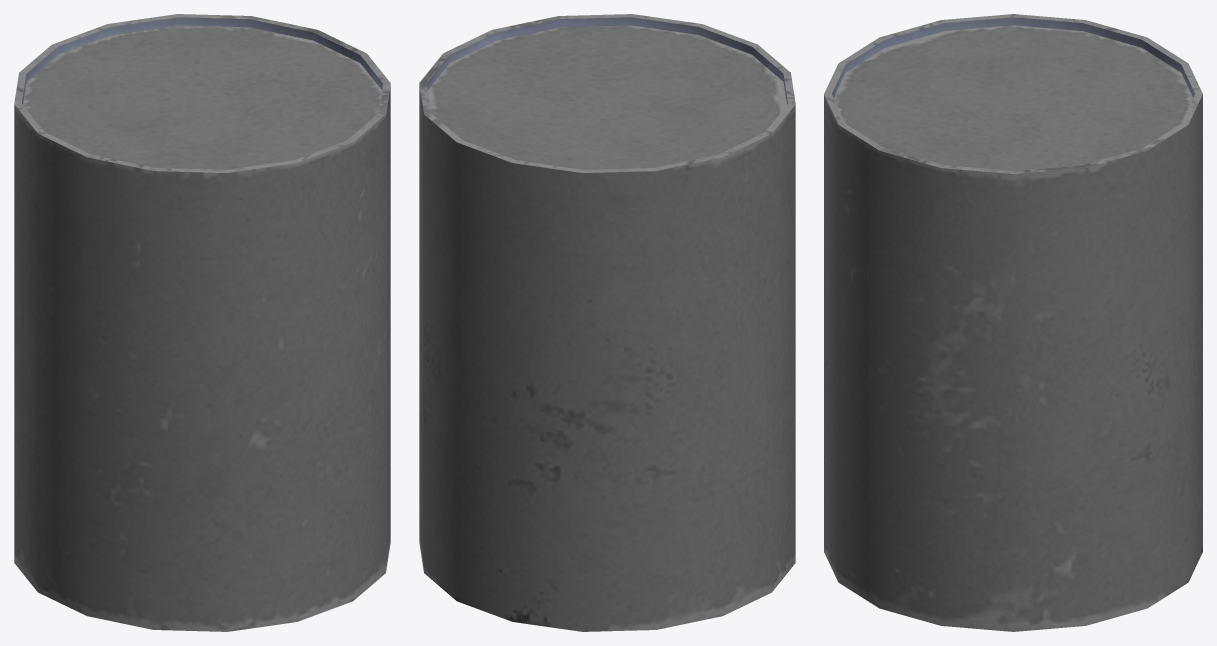
The model's file is Can_1_Closed.001.fbx.
3 views of the same model, side by side, from view 1: azimuth 30°, elevation 25°; view 2: azimuth 150°, elevation 25°; view 3: azimuth 270°, elevation 25° (orthographic).
Visible parts, largest first — view 1: Can_1_Closed.001; view 2: Can_1_Closed.001; view 3: Can_1_Closed.001.
Boxes of the visible parts, <box> form: Can_1_Closed.001: <box>14,14,390,631</box>; Can_1_Closed.001: <box>419,14,795,631</box>; Can_1_Closed.001: <box>824,14,1202,631</box>.
Bounding box in the file's own units: 0.1129 × 0.1505 × 0.1129.
